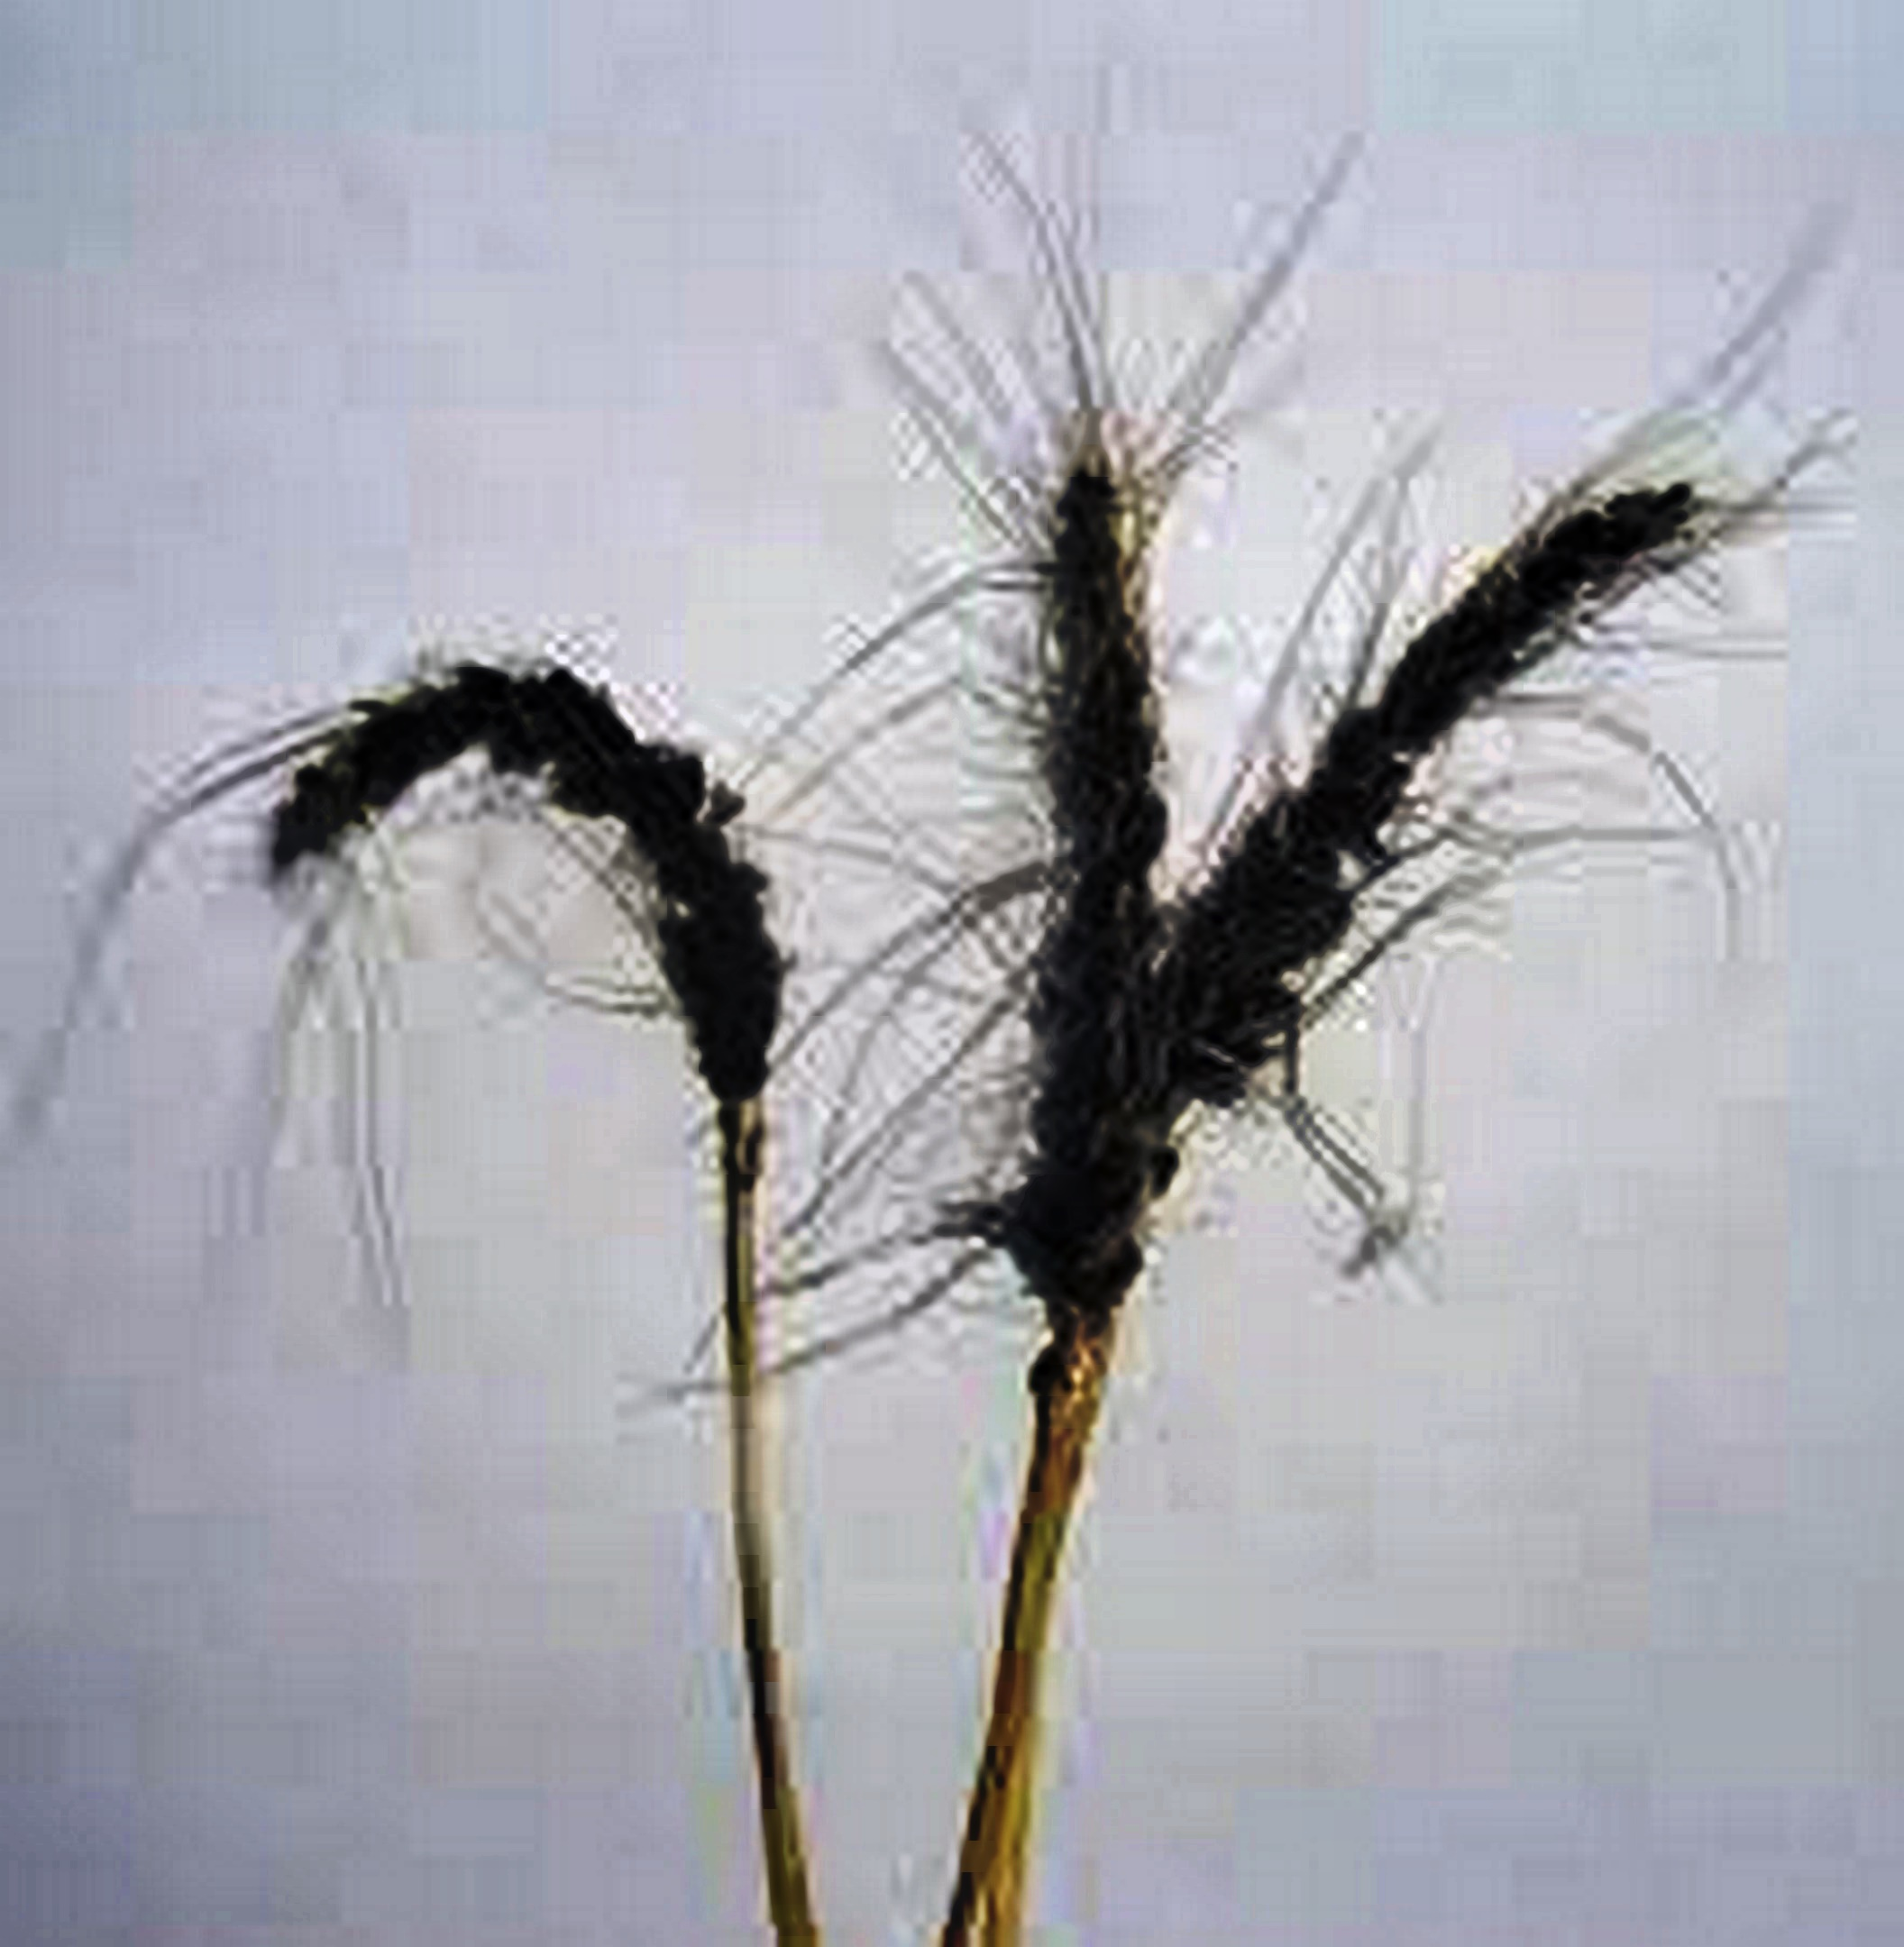Wheat Loose Smut: (232, 427, 1662, 1372)
